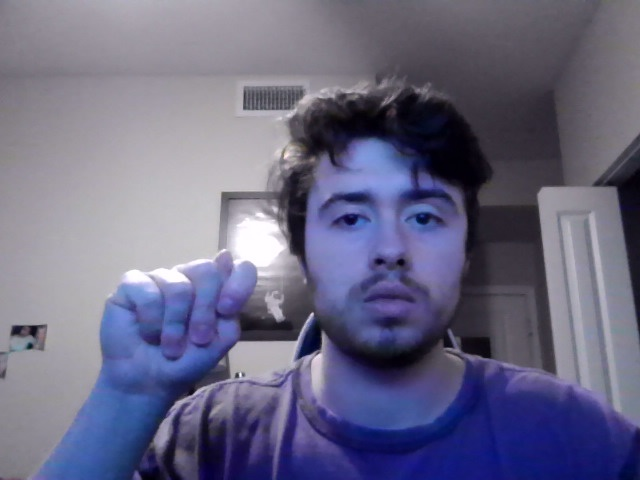t: (98, 247, 258, 406)
